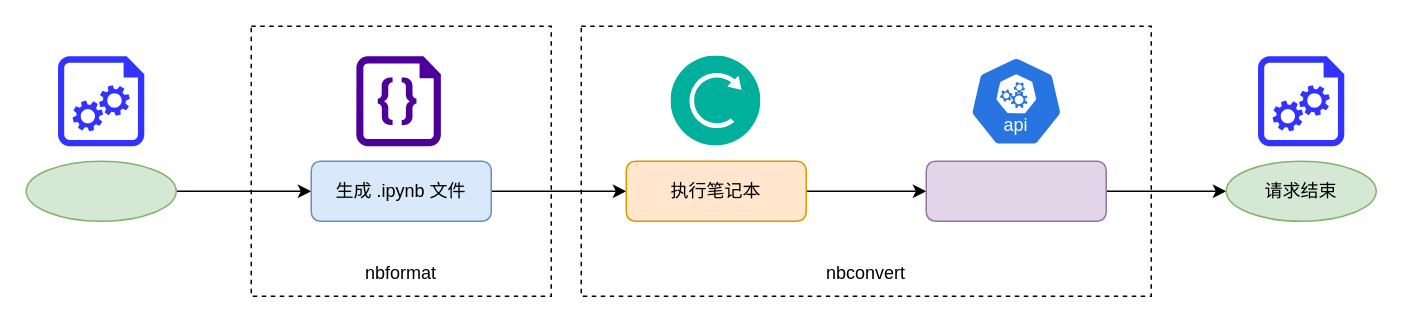
This 1403x323 diagram has some shape labels left out. Here are the shapes that lost their labels. From the top down, the centre of each, then its label:
At point 100,190: "请求开始".
At point 1015,190: "输出结果".
